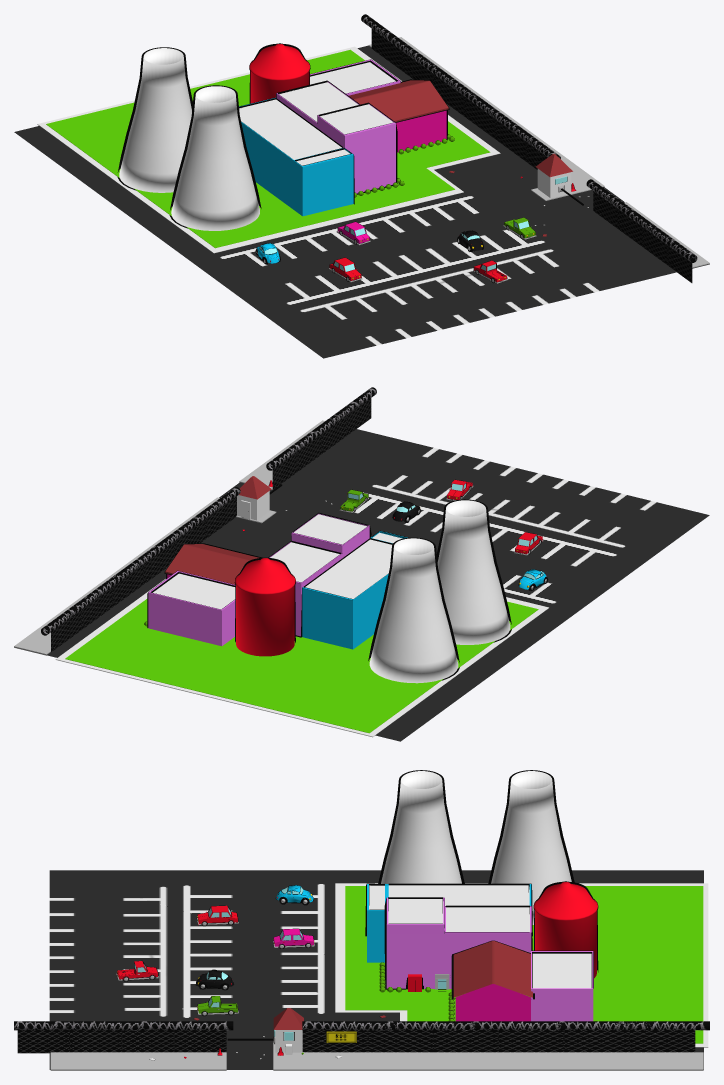
The model's file is Power Plant Start Screen.fbx.
The picture shows the model from 3 angles, top to bottom: view 1: azimuth 30°, elevation 25°; view 2: azimuth 150°, elevation 25°; view 3: azimuth 270°, elevation 25°; orthographic projection. The views are drawn at different scales.
Visible parts, largest first — view 1: Chão, Plataforma, Torre 1, Torre 2, Predio 2, Plataforma.001, Predio 2.001, Predio 1, Cerca dir, Predio 1.001, Silo, Galpao1.001 (+5 smaller); view 2: Chão, Plataforma, Torre 2, Torre 1, Silo, Predio 2, Cerca dir, Predio 3, Predio 2.001, Plataforma.001, Predio 1.001, Galpao1.001 (+6 smaller); view 3: Chão, Plataforma, Cerca dir, Calçada + cabine, Torre 2, Torre 1, Predio 1, Cerca esq, Silo, Predio 1.001, Galpao1.001, Calçada esq (+18 smaller).
Boxes of the visible parts, box(x1,y1,x2,y2) form: Chão: box(14, 45, 709, 358); Plataforma: box(46, 49, 490, 248); Torre 1: box(169, 85, 261, 230); Torre 2: box(117, 47, 192, 192); Predio 2: box(239, 97, 354, 216); Plataforma.001: box(37, 46, 500, 253); Predio 2.001: box(239, 98, 351, 165); Predio 1: box(276, 80, 397, 194); Cerca dir: box(371, 29, 547, 169); Predio 1.001: box(278, 80, 394, 134); Silo: box(249, 43, 310, 103); Galpao1.001: box(349, 79, 449, 122); Chão: box(15, 429, 709, 741); Plataforma: box(65, 599, 538, 733); Torre 2: box(368, 537, 459, 683); Torre 1: box(436, 499, 511, 644); Silo: box(234, 557, 295, 656); Predio 2: box(301, 530, 407, 649); Cerca dir: box(51, 496, 236, 652); Predio 3: box(147, 570, 235, 646); Predio 2.001: box(304, 531, 405, 598); Plataforma.001: box(55, 579, 548, 737); Predio 1.001: box(268, 512, 368, 582); Galpao1.001: box(164, 543, 262, 584); Chão: box(49, 870, 703, 1069); Plataforma: box(345, 886, 703, 1043); Cerca dir: box(302, 1030, 695, 1052); Calçada + cabine: box(273, 1041, 703, 1070); Torre 2: box(488, 770, 574, 924); Torre 1: box(378, 770, 464, 883); Predio 1: box(384, 897, 532, 991); Cerca esq: box(17, 1030, 226, 1053); Silo: box(533, 881, 598, 978); Predio 1.001: box(388, 897, 529, 931); Galpao1.001: box(451, 940, 534, 999); Calçada esq: box(50, 1052, 226, 1070).
Size of the model in its own units: 1520 by 450 by 2239.
